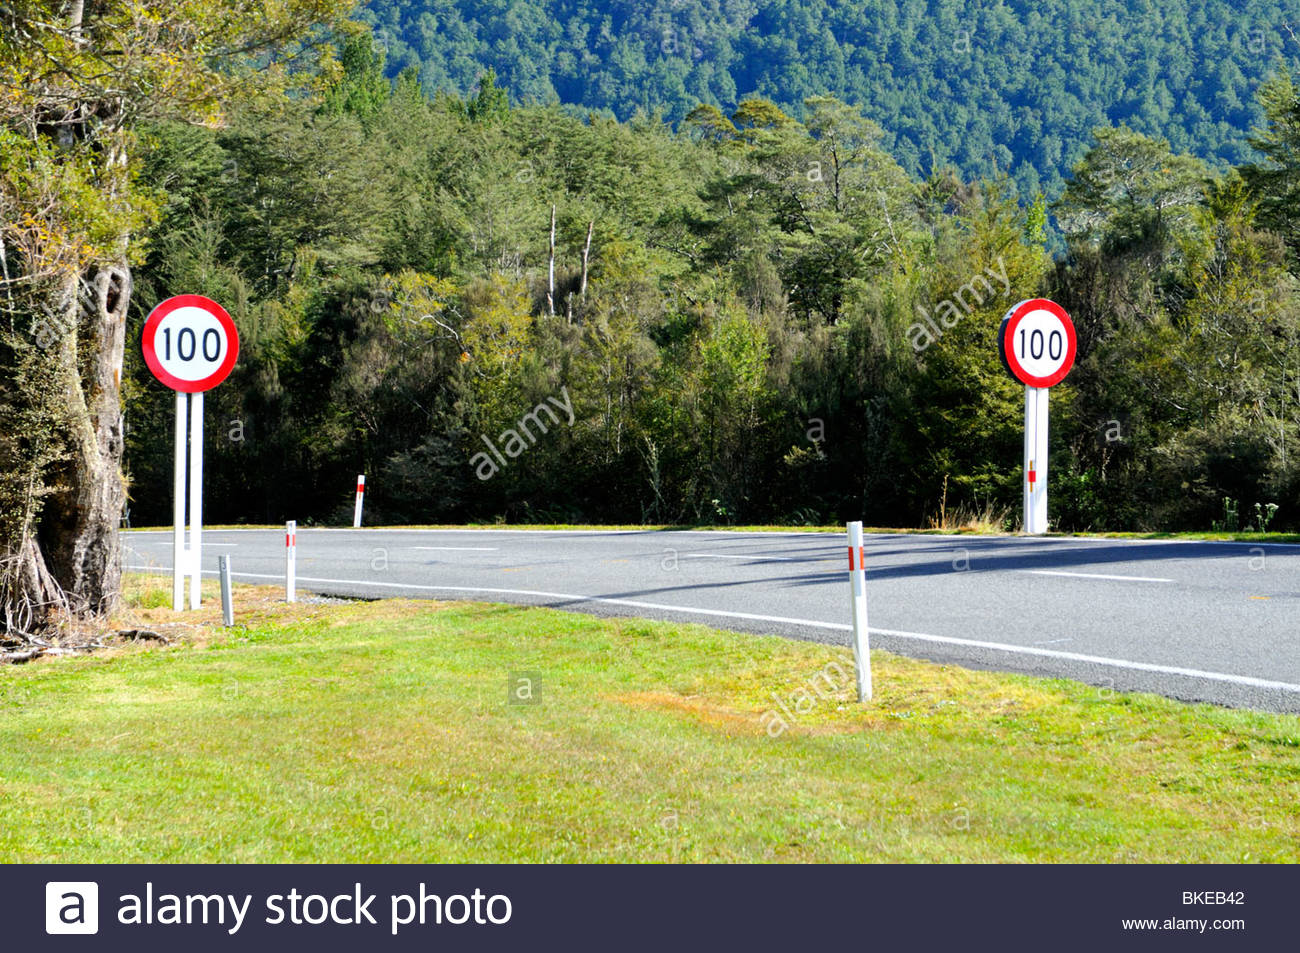Speed_limit_100km: (139, 293, 239, 393), (997, 299, 1078, 389)
